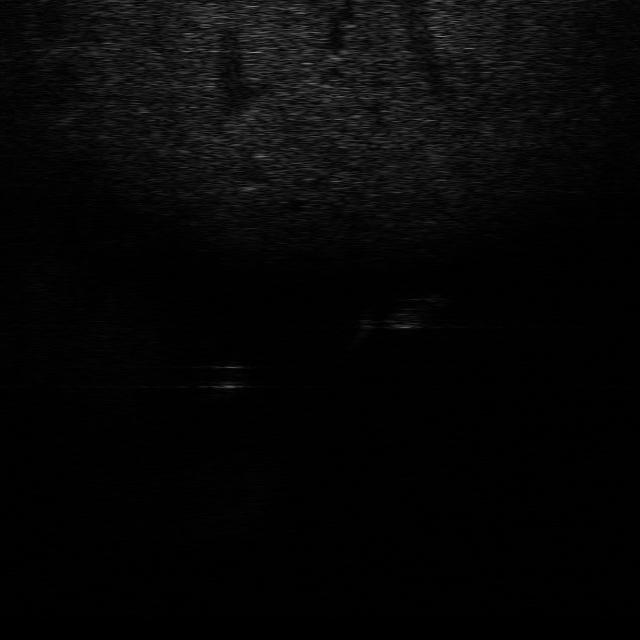ball: (194, 356, 251, 404)
human body: (348, 290, 448, 348)
